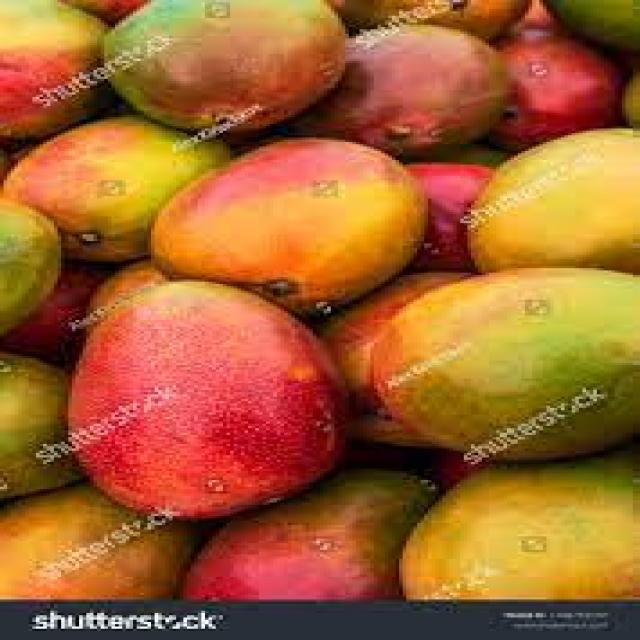mango: (68, 266, 345, 521)
